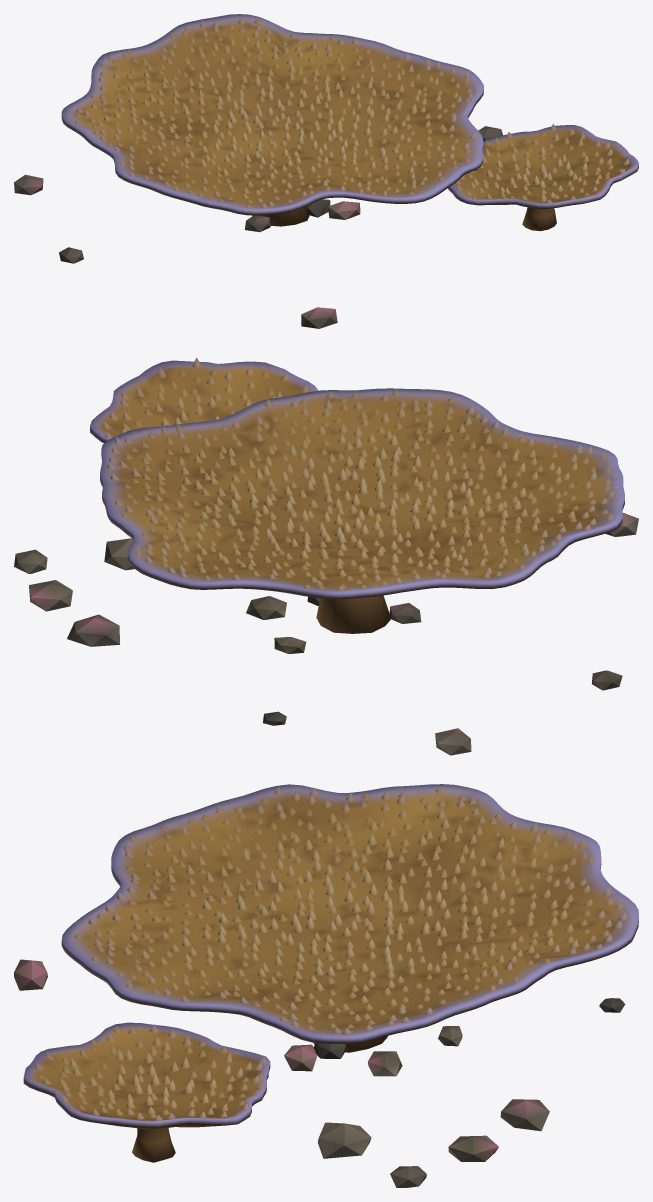
The model's file is TableCoral.fbx.
The picture shows the model from 3 angles, top to bottom: view 1: azimuth 30°, elevation 25°; view 2: azimuth 150°, elevation 25°; view 3: azimuth 270°, elevation 25°; orthographic projection. The views are drawn at different scales.
Visible parts, largest first — view 1: TableCoral; view 2: TableCoral; view 3: TableCoral.
Boxes of the visible parts, x1,y1,x2,y2 form: TableCoral: (14, 14, 638, 328); TableCoral: (14, 357, 638, 755); TableCoral: (14, 784, 638, 1187).
Bounding box in the file's own units: 2.13 × 0.4945 × 1.86.
